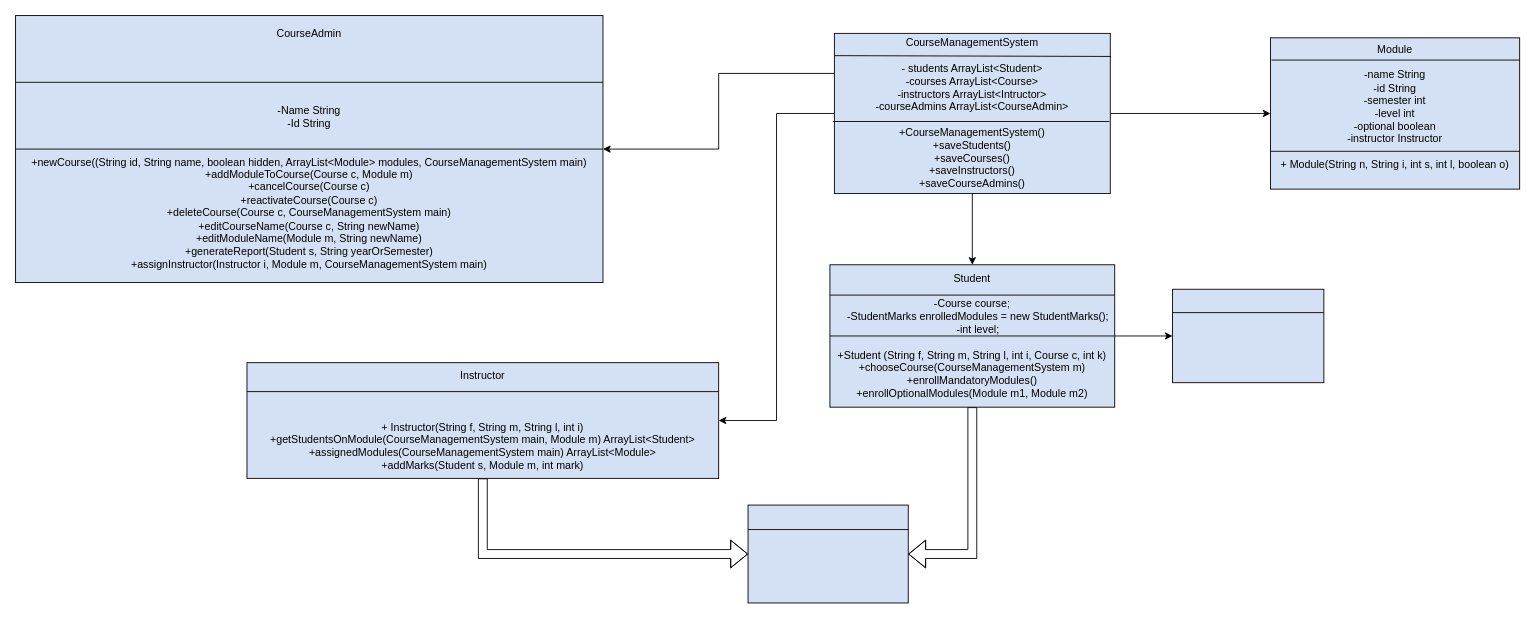
The diagram is 1536 pixels wide and 619 high, and some of its shapes have lost their labels. The centre of each missing label's shape, as x and y in pixels:
"BasePerson -firstName String -middleName String -lastName String -id int" goes at (827,553).
"StudentMarks -modules ArrayList<Module> -marks Array[8] int" goes at (1248,335).
